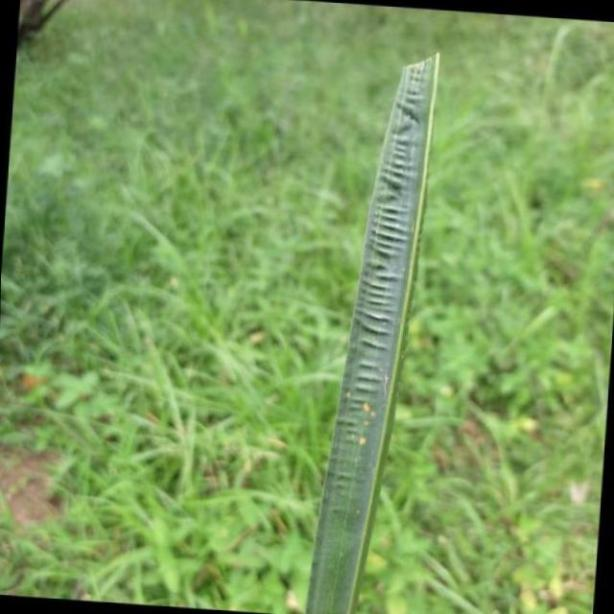Boron: (307, 48, 445, 614)
